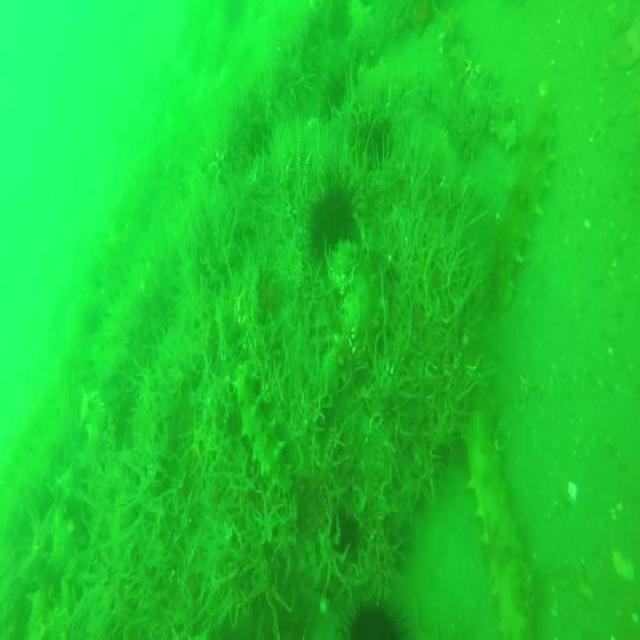echinus: (301, 188, 358, 253), (335, 603, 406, 640), (326, 514, 364, 553)
holothurian: (461, 396, 535, 640), (490, 103, 556, 314), (435, 25, 519, 154), (233, 342, 293, 499)
